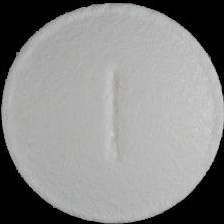68258-6033: (0, 0, 224, 224)
